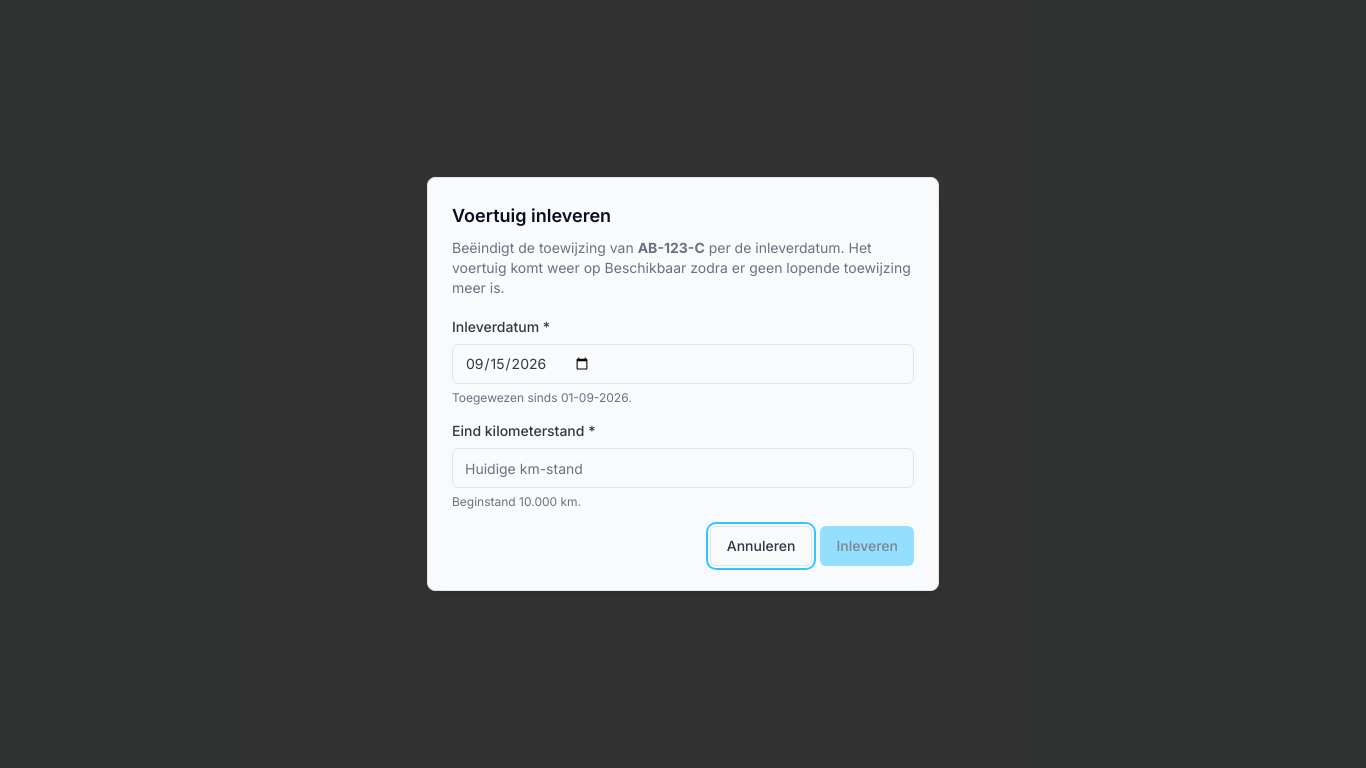
Scenario: VehicleReturnDialog › geeft bij bevestigen de datum en de geparste kilometerstand door
This screenshot has width=1366, height=768.
Later steps or results of the test are not shown.
Type "2026-09-05" into the date field labelled "Inleverdatum *". click: (683, 364)
box: x1=452 y1=344 x2=914 y2=384
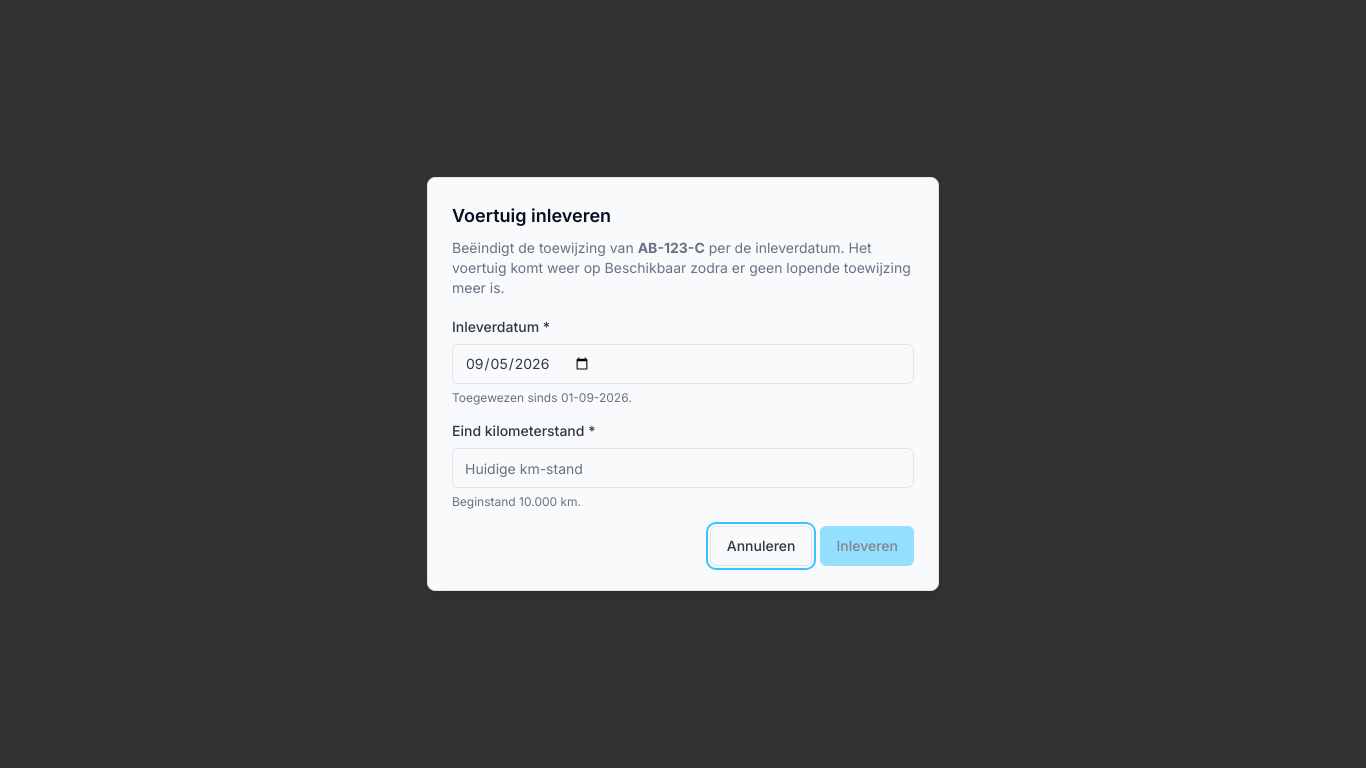
Type "10500" into the number field labelled "Eind kilometerstand *". click: (683, 468)
box: x1=452 y1=448 x2=914 y2=488
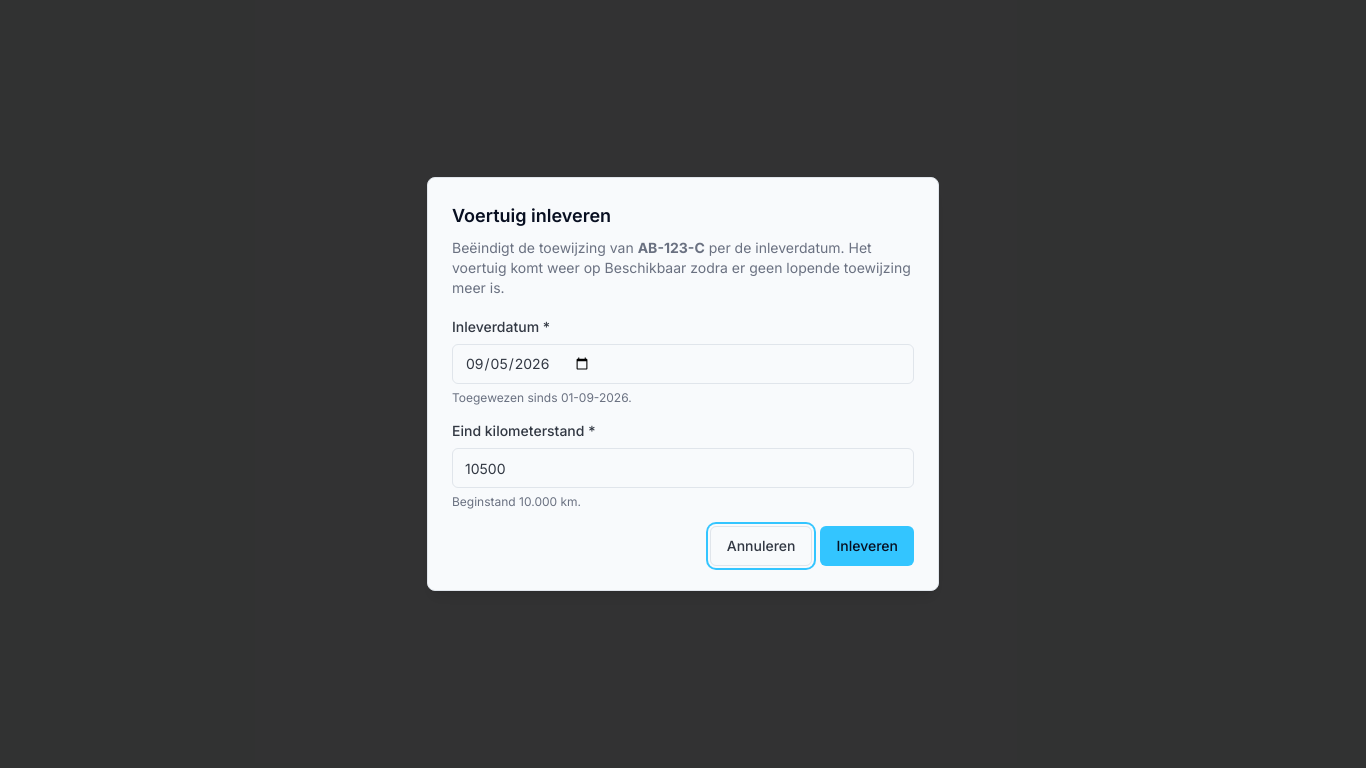
Check: the button "Inleveren" is enabled, box x1=820 y1=526 x2=914 y2=566
